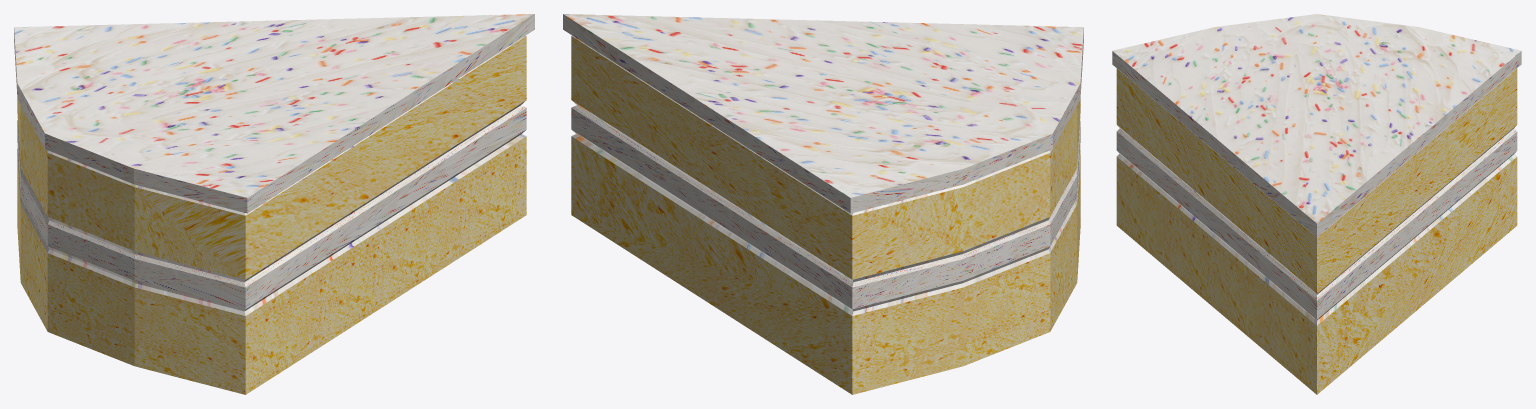
The model's file is Cake.fbx.
The picture shows the model from 3 angles, left to right: view 1: azimuth 30°, elevation 25°; view 2: azimuth 150°, elevation 25°; view 3: azimuth 270°, elevation 25°; orthographic projection. The views are drawn at different scales.
Parts seen in each view (by area): view 1: BIZCOCHUELO, CREMA ARRIBA, RELLENO; view 2: BIZCOCHUELO, CREMA ARRIBA, RELLENO; view 3: BIZCOCHUELO, CREMA ARRIBA, RELLENO.
Boxes of the visible parts, box(x1,y1,x2,y2) form: BIZCOCHUELO: box(17, 36, 526, 394); CREMA ARRIBA: box(14, 14, 534, 215); RELLENO: box(17, 100, 526, 315); BIZCOCHUELO: box(571, 36, 1080, 394); CREMA ARRIBA: box(563, 14, 1083, 215); RELLENO: box(571, 100, 1080, 315); BIZCOCHUELO: box(1116, 69, 1517, 394); CREMA ARRIBA: box(1112, 14, 1521, 237); RELLENO: box(1116, 125, 1517, 325).
Bounding box in the file's own units: 77.09 × 29.94 × 63.6.
Materials: 2 (2 with a texture image).
